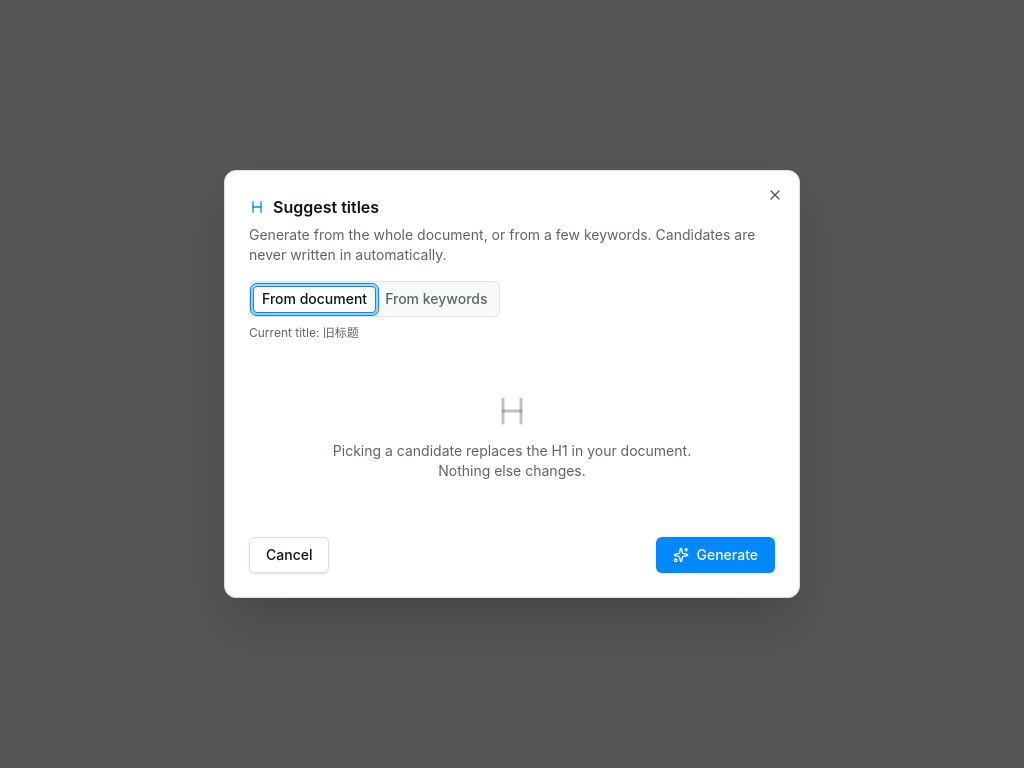
Scenario: 起标题 › 一条都没解析出来时给出提示
The width and height of the screenshot is (1024, 768).
Click the button "Generate" at (715,555), box [656,537,775,573]
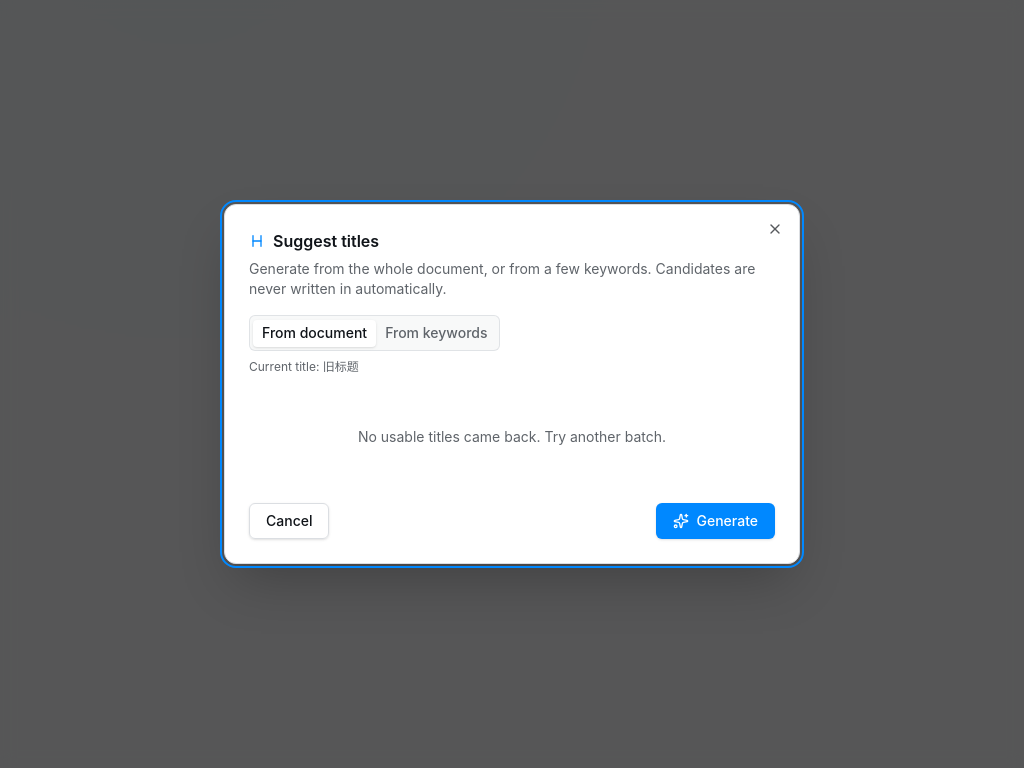
Result: the text "No usable titles came back. Try another batch." is shown at [358,428,666,445]
